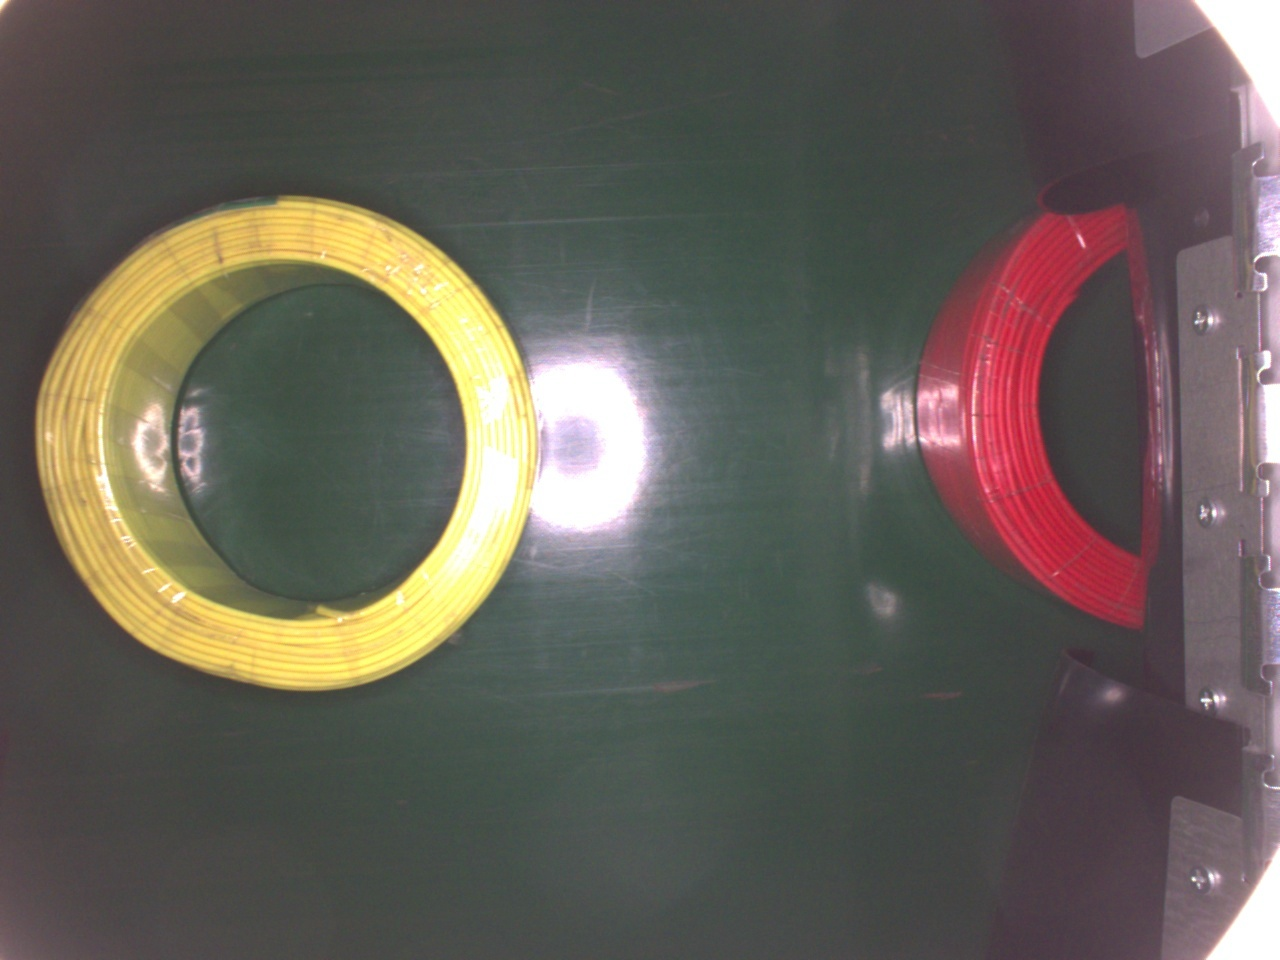red: (916, 201, 1143, 629)
yellow: (36, 187, 544, 692)
